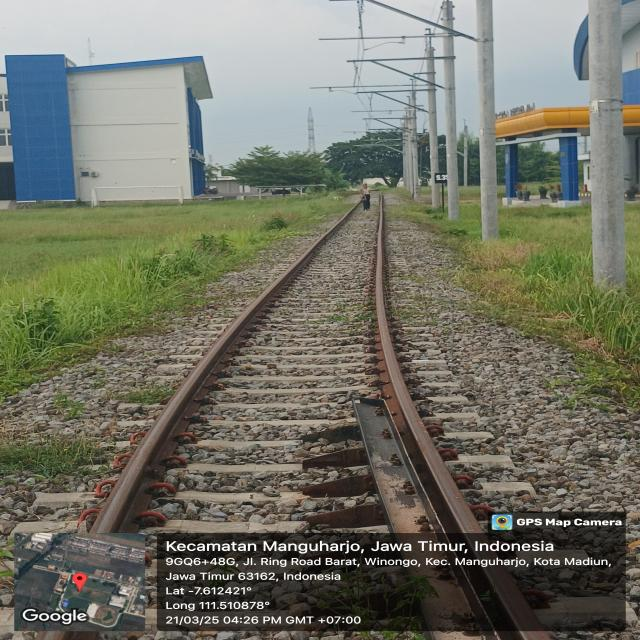rail-detection: (91, 204, 359, 531), (375, 199, 491, 560), (454, 564, 548, 640)
